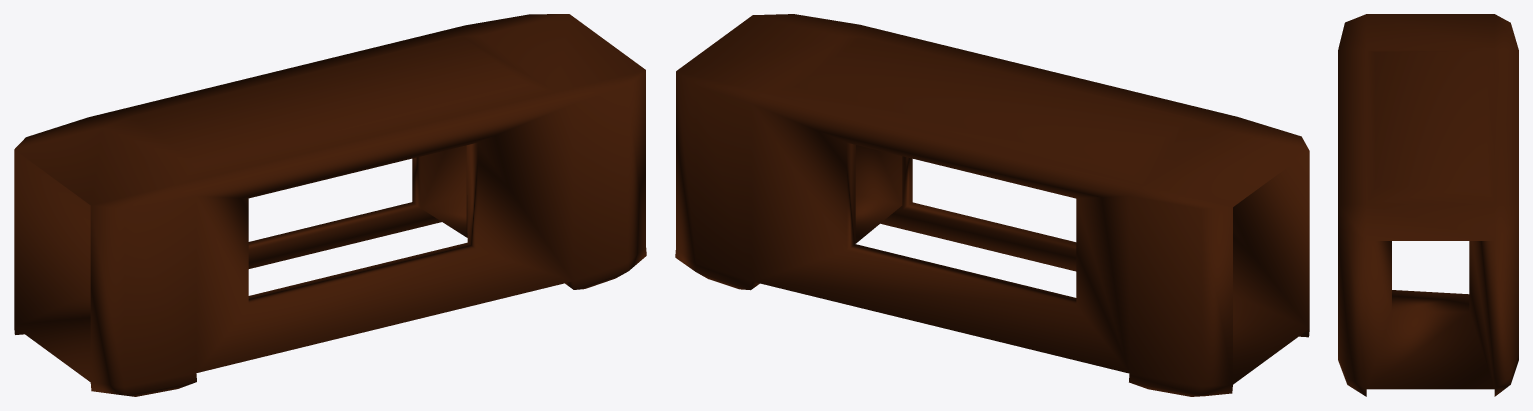
The model's file is Table.fbx.
3 renders of one model, left to right at view 1: azimuth 30°, elevation 25°; view 2: azimuth 150°, elevation 25°; view 3: azimuth 270°, elevation 25°, orthographic. The views are drawn at different scales.
Parts seen in each view (by area): view 1: Cubo.024; view 2: Cubo.024; view 3: Cubo.024.
Boxes of the visible parts, x1=… form: Cubo.024: x1=14, y1=14, x2=646, y2=396; Cubo.024: x1=675, y1=14, x2=1309, y2=396; Cubo.024: x1=1338, y1=14, x2=1518, y2=396.
Bounding box in the file's own units: 595 × 206 × 200.
